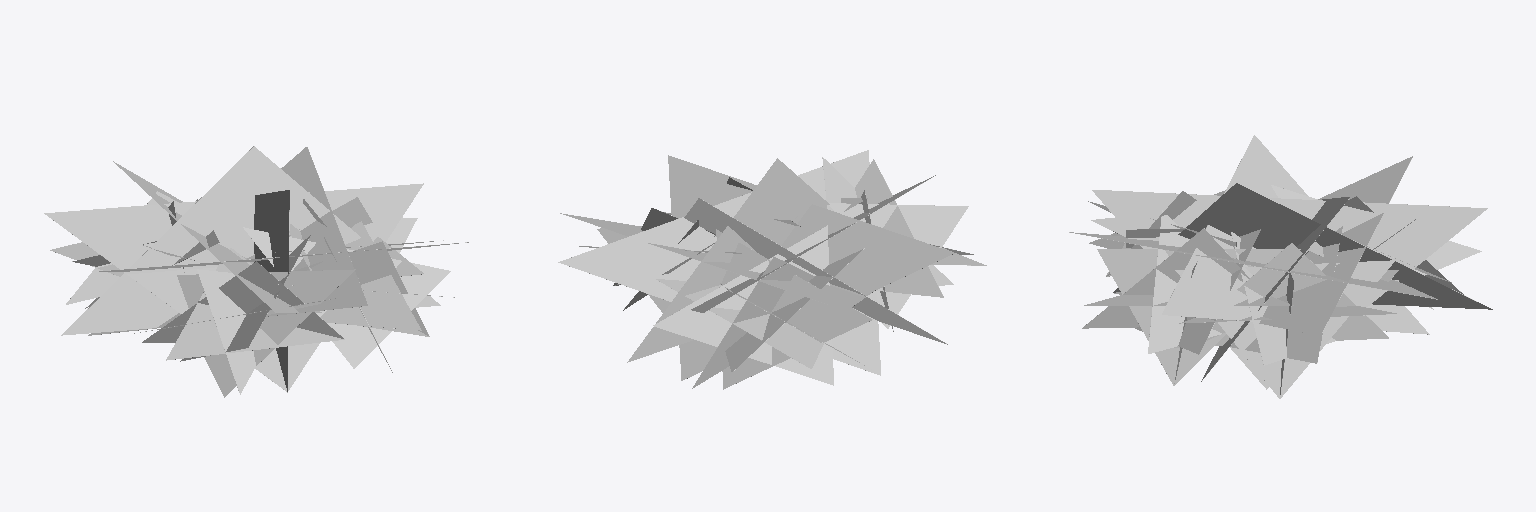
File: KohmTreeDragon-Leaves.obj
3 views of the same model, side by side, from view 1: azimuth 30°, elevation 25°; view 2: azimuth 150°, elevation 25°; view 3: azimuth 270°, elevation 25° (orthographic).
Parts seen in each view (by area): view 1: Plane.011_Circle.002; view 2: Plane.011_Circle.002; view 3: Plane.011_Circle.002.
Boxes of the visible parts, <box> form: Plane.011_Circle.002: <box>44,146,468,397</box>; Plane.011_Circle.002: <box>558,150,986,389</box>; Plane.011_Circle.002: <box>1069,135,1492,398</box>.
Size of the model in its own units: 58.69 by 23.56 by 57.48.